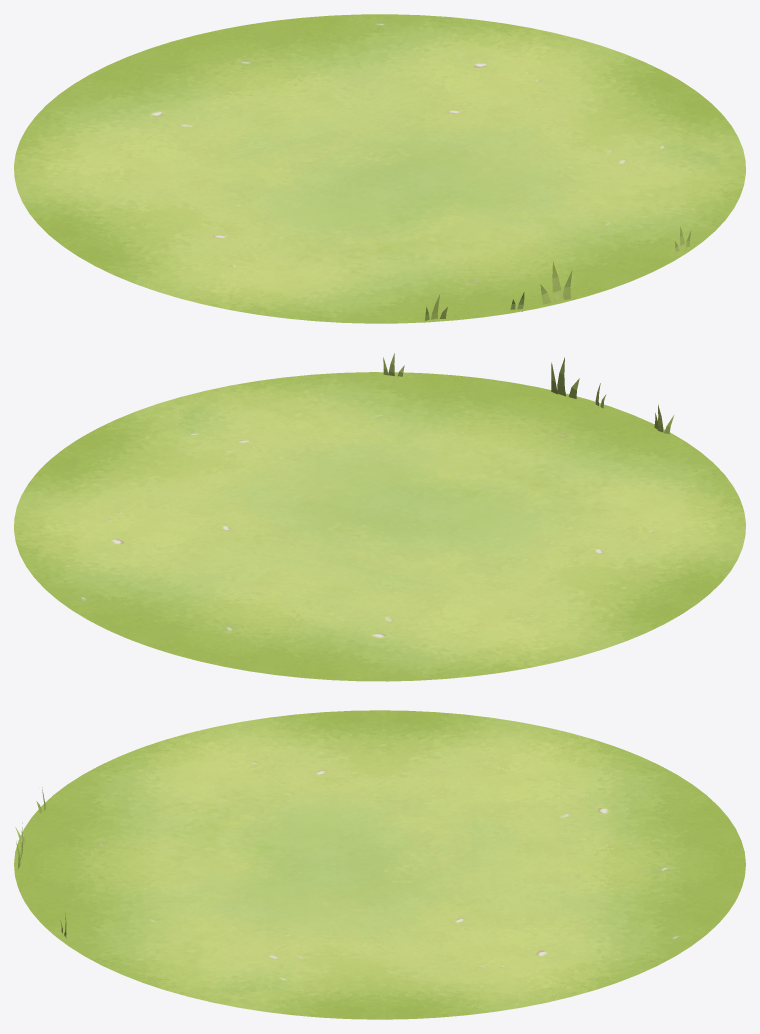
Rendered from standardterrain_0.FBX.
The picture shows the model from 3 angles, top to bottom: view 1: azimuth 30°, elevation 25°; view 2: azimuth 150°, elevation 25°; view 3: azimuth 270°, elevation 25°; orthographic projection.
Parts seen in each view (by area): view 1: 1, 2, 3; view 2: 1, 2, 3; view 3: 1, 2.
Boxes of the visible parts, bbox=[...] form: 1: bbox=[36, 23, 723, 314]; 2: bbox=[14, 14, 745, 323]; 3: bbox=[425, 226, 691, 322]; 1: bbox=[35, 381, 724, 672]; 2: bbox=[14, 372, 745, 681]; 3: bbox=[383, 353, 673, 434]; 1: bbox=[64, 731, 695, 998]; 2: bbox=[14, 710, 745, 1019].
Size of the model in its own units: 5.37 by 0.3538 by 5.38.
Materials: 2 (2 with a texture image).
